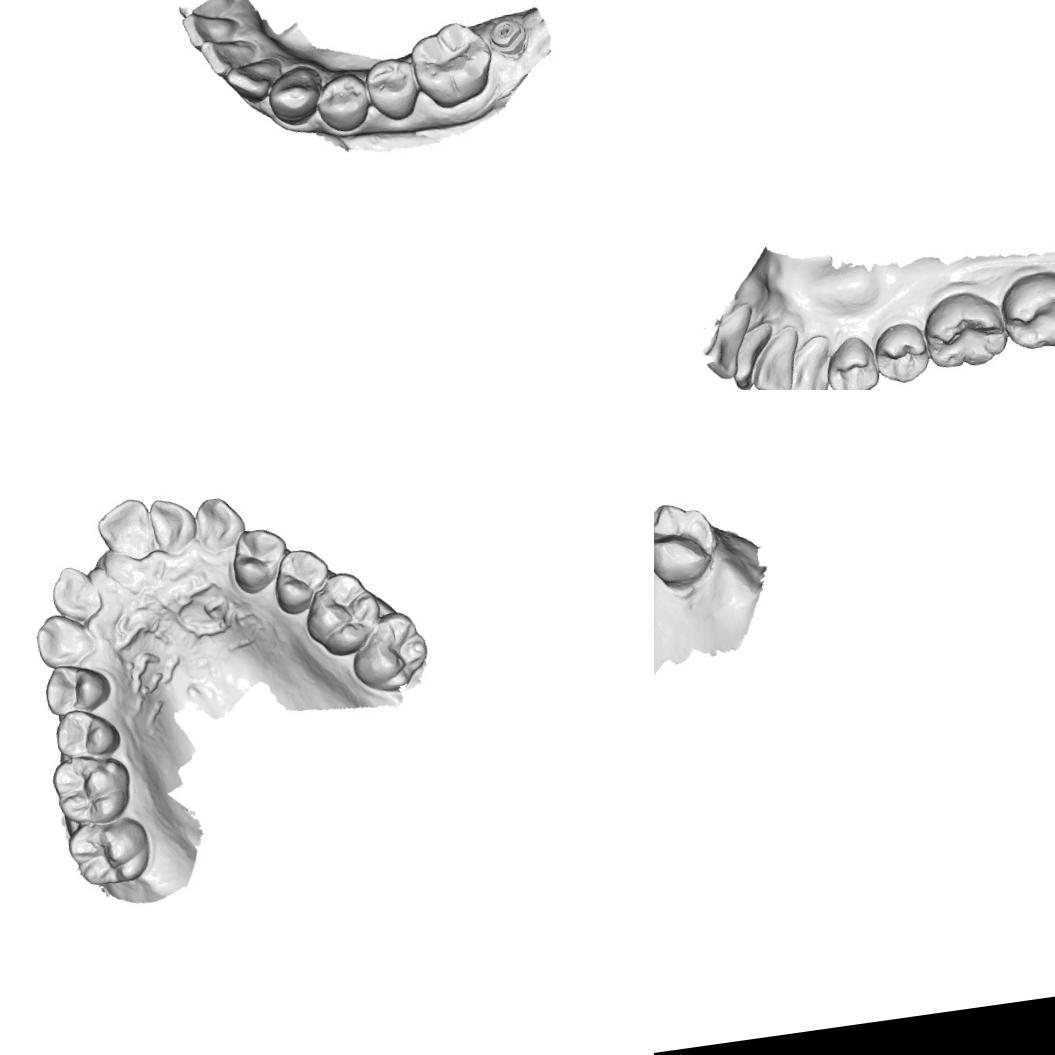canine: (262, 61, 328, 131), (32, 609, 99, 672), (779, 331, 839, 390), (192, 492, 248, 554)
implant_minus: (484, 13, 534, 62)
incisor: (698, 301, 761, 383), (93, 496, 156, 567), (744, 323, 809, 390), (724, 320, 781, 390), (47, 562, 104, 626), (220, 53, 286, 108), (146, 494, 201, 558), (194, 33, 260, 82), (178, 6, 242, 53)
molar: (404, 14, 498, 115), (918, 287, 1014, 376), (298, 566, 386, 660), (346, 606, 434, 698), (64, 813, 154, 890), (48, 750, 134, 830), (654, 496, 723, 591), (996, 264, 1055, 354)
premolar: (226, 524, 294, 597), (268, 545, 334, 618), (868, 319, 934, 389), (362, 52, 424, 126), (40, 657, 114, 718), (310, 67, 376, 135), (52, 704, 123, 761), (821, 332, 885, 390)
